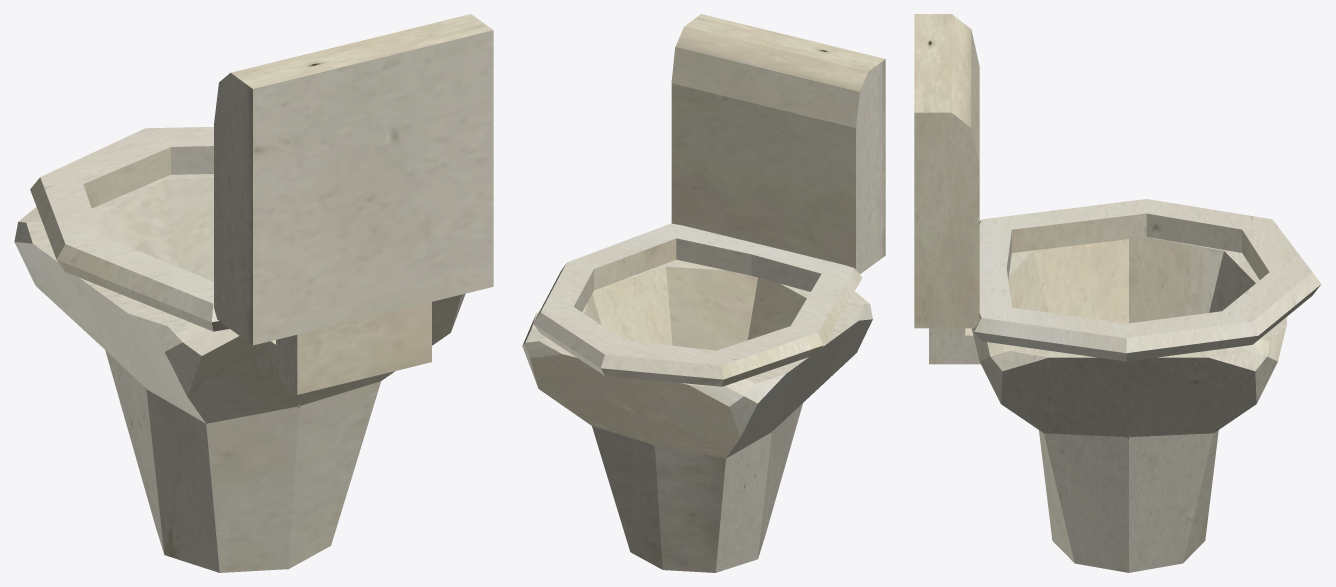
The model's file is TOILET_PEE.glb.
3 views of the same model, side by side, from view 1: azimuth 30°, elevation 25°; view 2: azimuth 150°, elevation 25°; view 3: azimuth 270°, elevation 25° (orthographic). The views are drawn at different scales.
Visible parts, largest first — view 1: toilet-col; view 2: toilet-col; view 3: toilet-col.
Part boxes in pixels (bbox=[...]): toilet-col: bbox=[14, 14, 493, 572]; toilet-col: bbox=[522, 14, 885, 572]; toilet-col: bbox=[914, 14, 1321, 572].
Size of the model in its own units: 0.7244 by 1.11 by 0.8532.
Materials: 2 (2 with a texture image).
